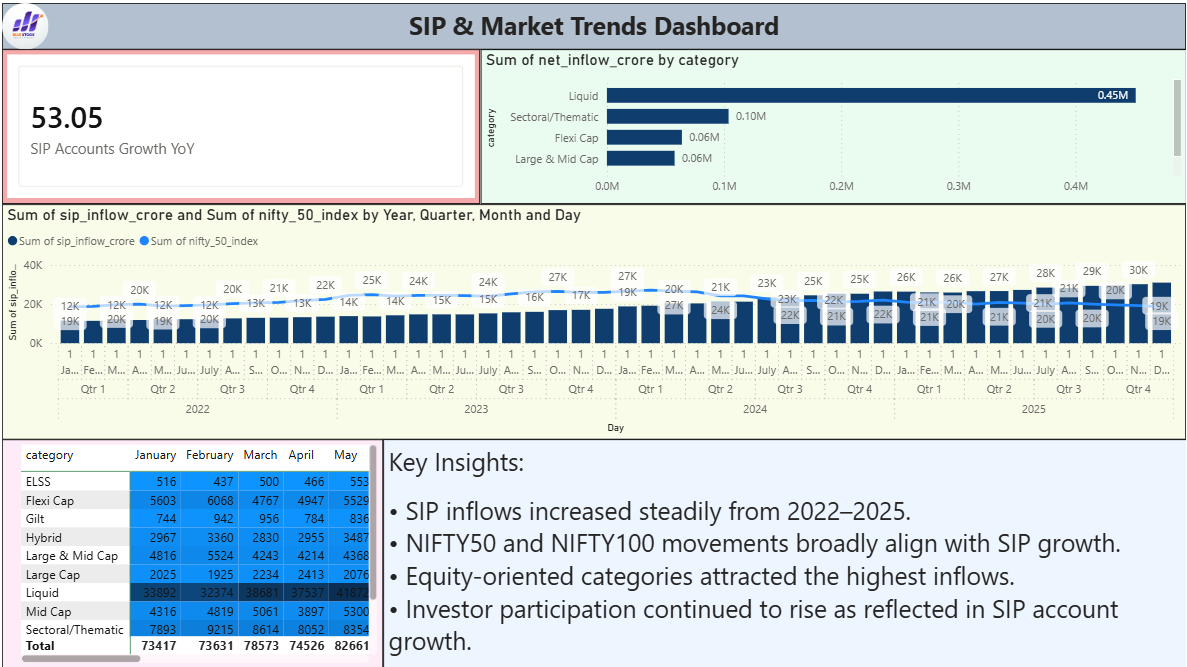

What the dashboard file says about the page in this screenshot:
{"tool":"powerbi","page":{"name":"SIP & Market Trends","canvas":[1280,720],"ordinal":3},"visuals":[{"type":"textbox","box":[0,0,1280.3,50.2],"z":0},{"type":"cardVisual","fields":{"Data":["Max(04_monthly_sip_inflows.yoy_growth_pct)"]},"box":[0,50.2,517.2,167.4],"z":1000},{"type":"pivotTable","fields":{"Rows":["05_category_inflows.category"],"Values":["Sum(05_category_inflows.net_inflow_crore)"],"Columns":["05_category_inflows.month.Variation.Date Hierarchy.Year","05_category_inflows.month.Variation.Date Hierarchy.Quarter","05_category_inflows.month.Variation.Date Hierarchy.Month","05_category_inflows.month.Variation.Date Hierarchy.Day"]},"box":[0,472,411.7,247.7],"z":2000},{"type":"clusteredBarChart","fields":{"Category":["05_category_inflows.category"],"Y":["Sum(05_category_inflows.net_inflow_crore)"]},"box":[517.2,50.2,763.2,167.4],"z":3000},{"type":"lineClusteredColumnComboChart","fields":{"Series":["10_benchmark_indices.index_name"],"Category":["10_benchmark_indices.date.Variation.Date Hierarchy.Year","10_benchmark_indices.date.Variation.Date Hierarchy.Quarter","10_benchmark_indices.date.Variation.Date Hierarchy.Month","10_benchmark_indices.date.Variation.Date Hierarchy.Day"],"Y":["Sum(04_monthly_sip_inflows.sip_aum_lakh_crore)"],"Y2":["CountNonNull(10_benchmark_indices.close_value)"]},"box":[0,217.6,1280.3,254.4],"z":4000},{"type":"textbox","box":[411.7,472,868.6,247.7],"z":5000},{"type":"image","box":[0,0,50,50],"z":6000}]}

Visuals, with their boxes in screenshot pixels (x1, y1, x2, y2), scaled from the page's 1280x720 canvas onto the 1187x667 screenshot:
textbox: 0 0 1186 47
cardVisual - Max(04_monthly_sip_inflows.yoy_growth_pct): 0 47 480 202
pivotTable - 05_category_inflows.category x Sum(05_category_inflows.net_inflow_crore): 0 437 382 666
clusteredBarChart - 05_category_inflows.category x Sum(05_category_inflows.net_inflow_crore): 480 47 1186 202
lineClusteredColumnComboChart - 10_benchmark_indices.index_name x 10_benchmark_indices.date.Variation.Date Hierarchy.Year: 0 202 1186 437
textbox: 382 437 1186 666
image: 0 0 46 46
